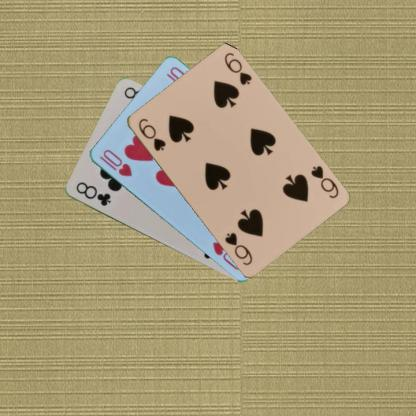10h: (100, 147, 133, 178)
6s: (307, 163, 340, 200), (135, 116, 167, 152)
8c: (73, 179, 112, 208)
